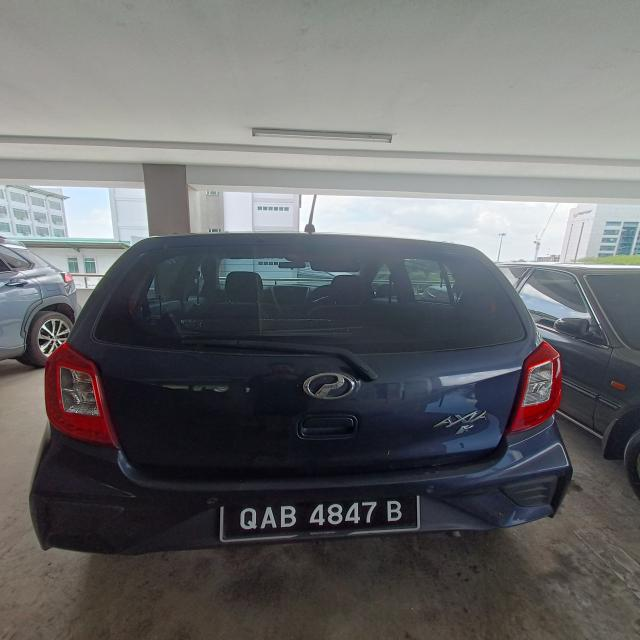PeroduaAxia: (28, 230, 574, 556)
